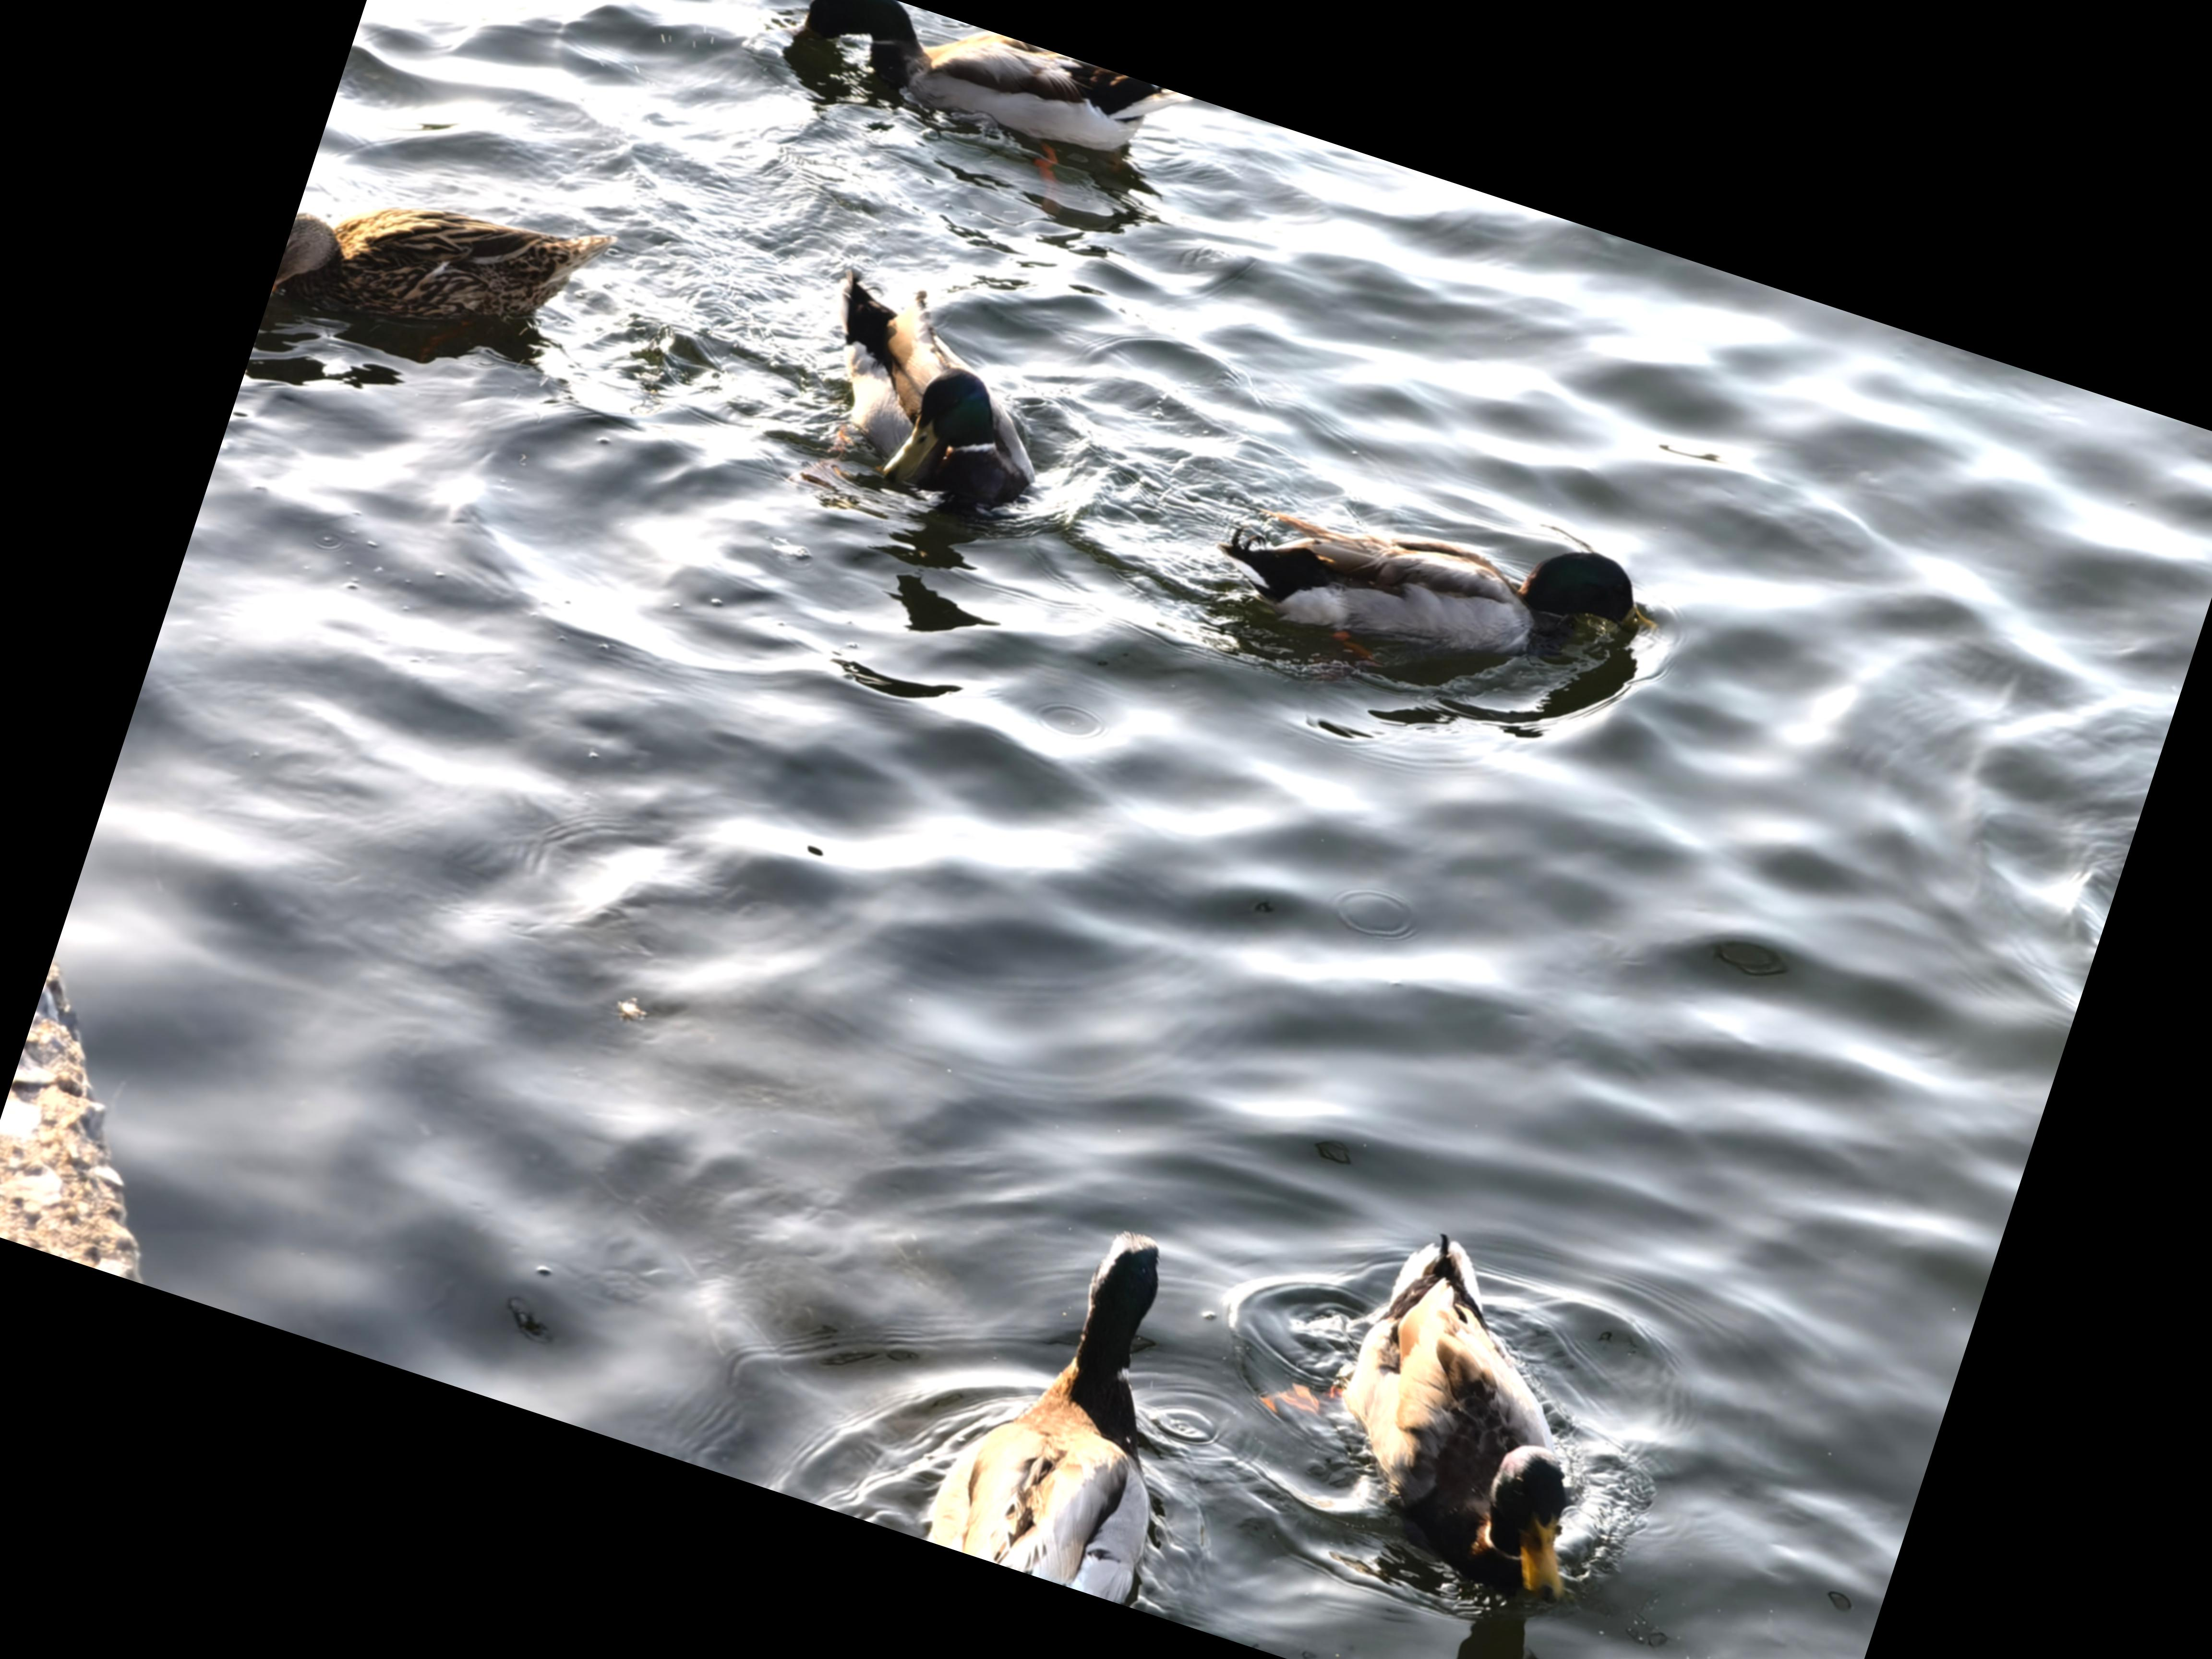duck: (1268, 1201, 1705, 1631), (883, 1173, 1258, 1610), (1204, 437, 1709, 744), (263, 99, 651, 418), (752, 0, 1195, 261), (765, 247, 1096, 532)
